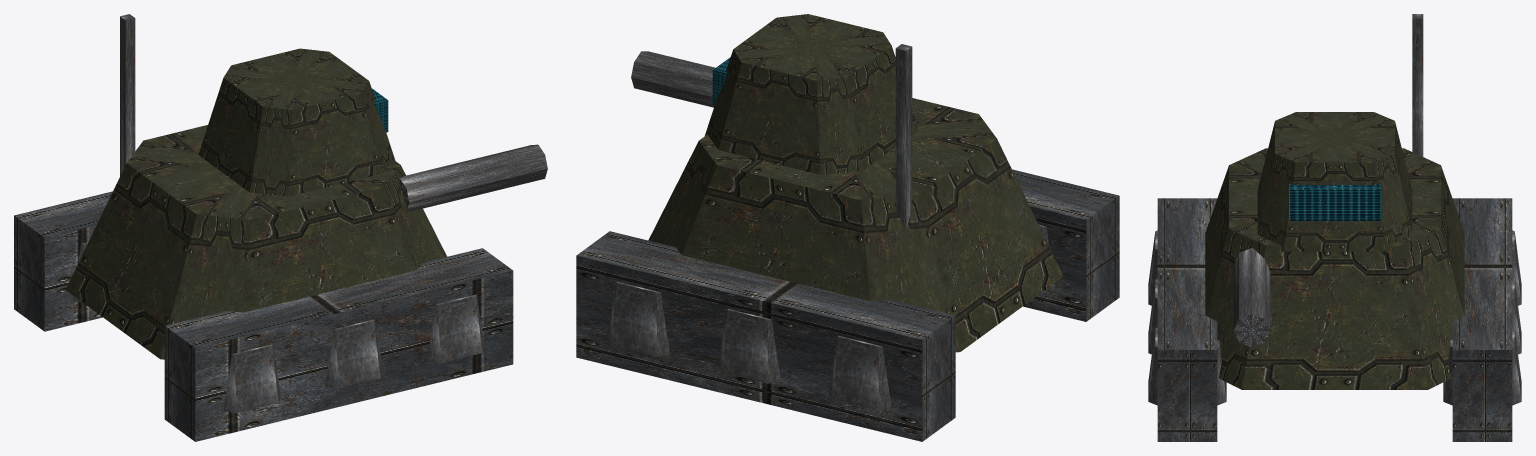
File: drone.obj
3 renders of one model, left to right at view 1: azimuth 30°, elevation 25°; view 2: azimuth 150°, elevation 25°; view 3: azimuth 270°, elevation 25°, orthographic. The views are drawn at different scales.
Visible parts, largest first — view 1: drone; view 2: drone; view 3: drone.
Boxes of the visible parts, <box> form: drone: <box>14,14,547,441</box>; drone: <box>576,14,1119,441</box>; drone: <box>1148,14,1521,441</box>.
Size of the model in its own units: 0.96 by 0.73 by 0.81.
Materials: 1 (1 with a texture image).
